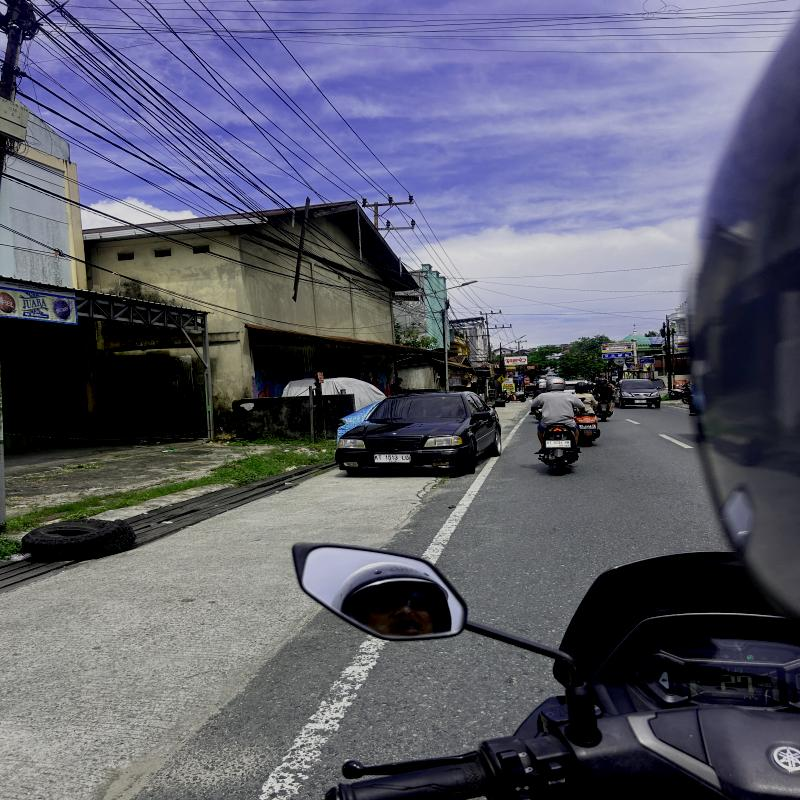license plate on a car: (374, 454, 410, 463)
